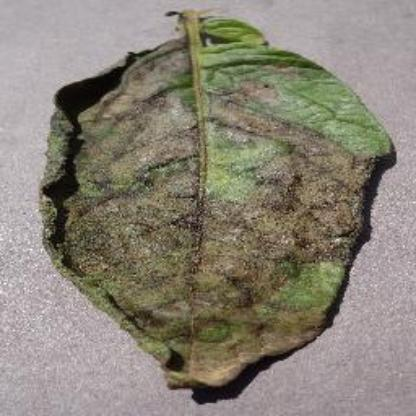Late-Blight: (34, 6, 400, 400)
